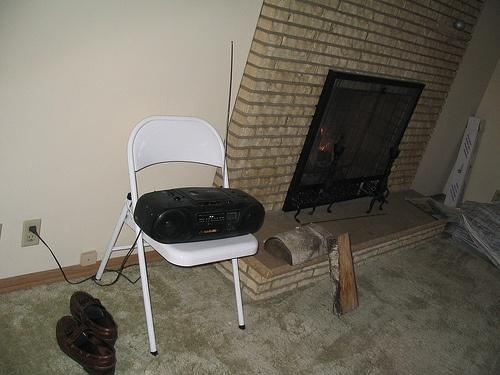chair: (98, 115, 259, 351)
